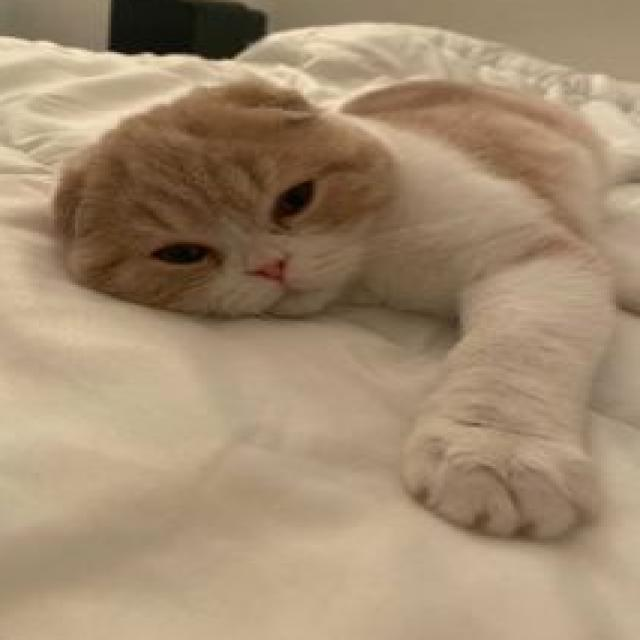Scottish Fold: (39, 63, 640, 540)
